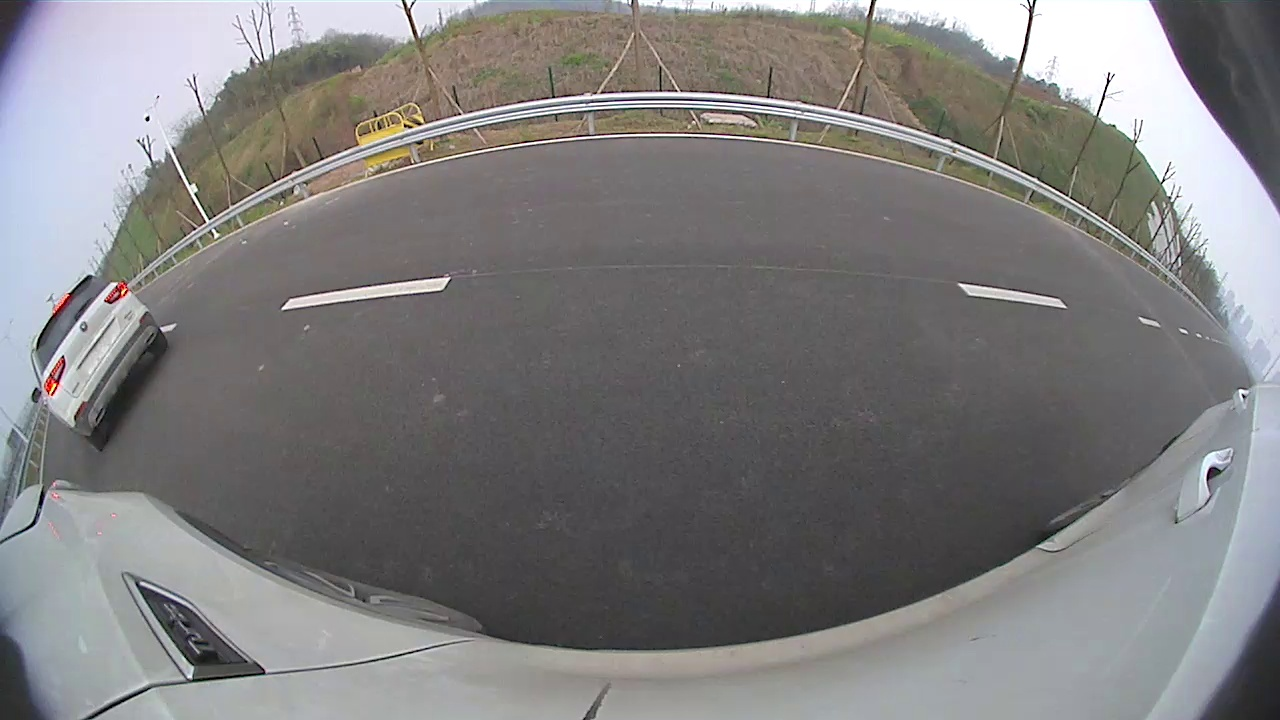car: (626, 129, 720, 208)
